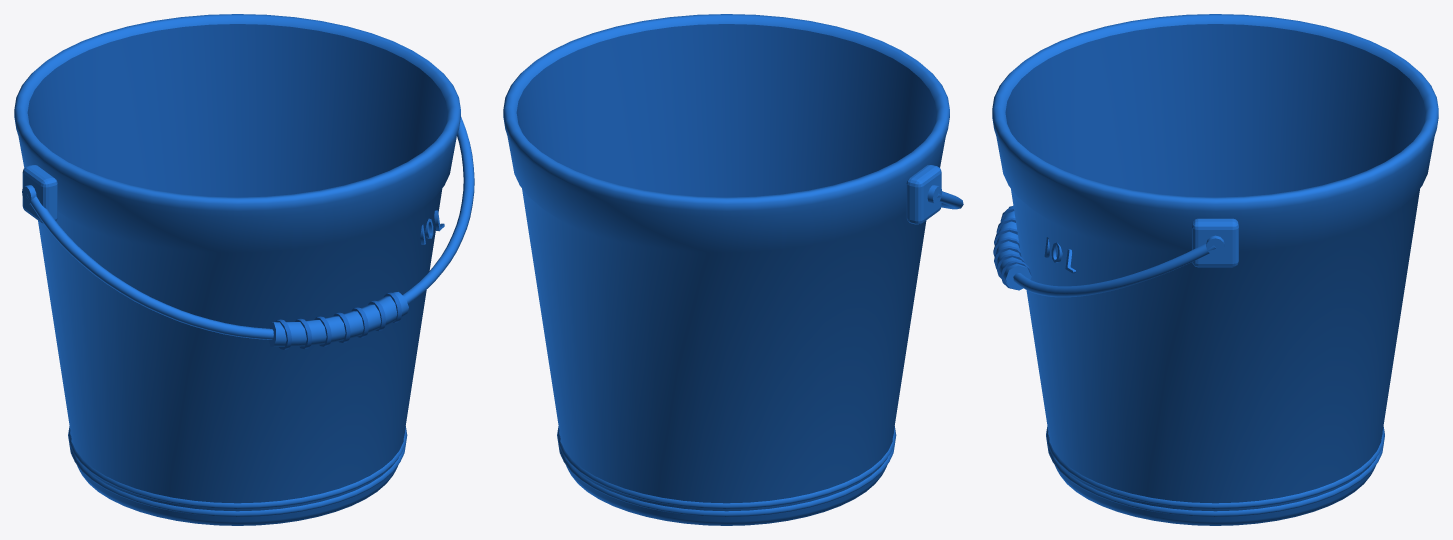
The model's file is item-37.glb.
3 renders of one model, left to right at view 1: azimuth 30°, elevation 25°; view 2: azimuth 150°, elevation 25°; view 3: azimuth 270°, elevation 25°, orthographic.
Visible parts, largest first — view 1: bucket, inside, bail, grip, hoop.001, hoop, lug; view 2: bucket, inside, hoop.001, hoop, lug; view 3: bucket, inside, bail, hoop.001, hoop, lug.001, grip.
Part boxes in pixels (x1,y1,x2,y2): bucket: [14, 14, 460, 525]; inside: [27, 24, 447, 197]; bail: [26, 117, 474, 339]; grip: [268, 292, 408, 346]; hoop.001: [68, 426, 407, 508]; hoop: [69, 435, 405, 516]; lug: [22, 165, 57, 224]; bucket: [503, 14, 949, 525]; inside: [516, 24, 936, 197]; hoop.001: [557, 426, 896, 508]; hoop: [558, 435, 894, 516]; lug: [906, 165, 941, 224]; bucket: [992, 14, 1438, 525]; inside: [1005, 24, 1425, 197]; bail: [1013, 243, 1215, 297]; hoop.001: [1046, 426, 1384, 508]; hoop: [1047, 435, 1383, 516]; lug.001: [1192, 218, 1238, 267]; grip: [995, 206, 1031, 290].
Size of the model in its own units: 0.3132 by 0.25 by 0.286.
